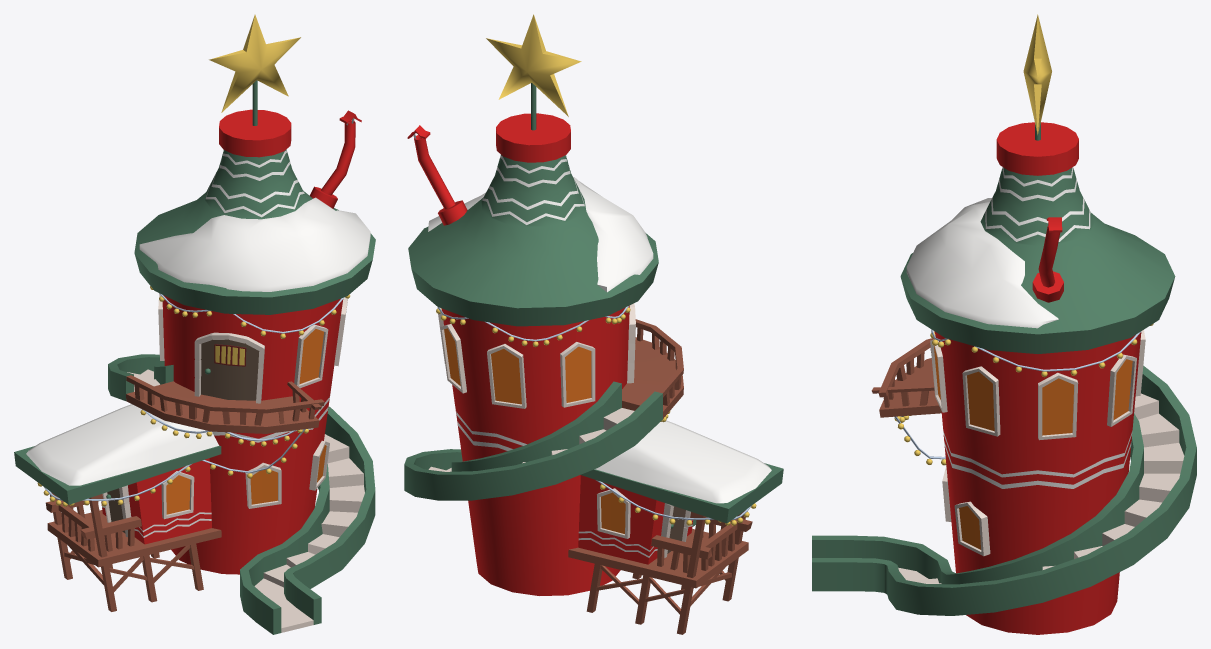
The model's file is House_1.glb.
The picture shows the model from 3 angles, left to right: view 1: azimuth 30°, elevation 25°; view 2: azimuth 150°, elevation 25°; view 3: azimuth 270°, elevation 25°; orthographic projection. The views are drawn at different scales.
Visible parts, largest first — view 1: House_1; view 2: House_1; view 3: House_1.
Part boxes in pixels (x1,y1,x2,y2): House_1: [14, 14, 375, 634]; House_1: [404, 14, 783, 634]; House_1: [812, 14, 1196, 634].
Bounding box in the file's own units: 1.23 × 1.95 × 1.12.
1 material, 1 textured.
